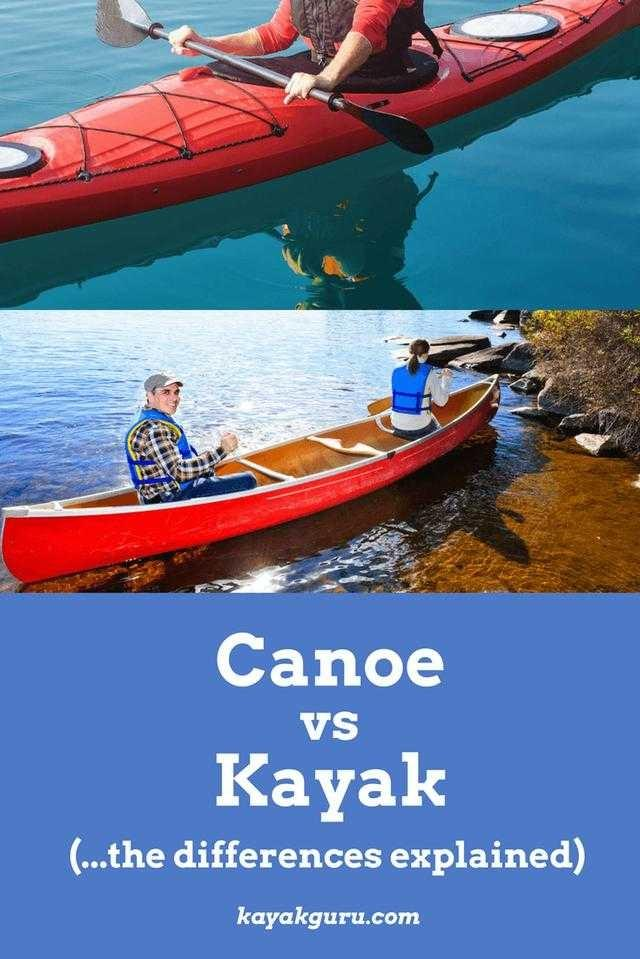kayak: (0, 0, 636, 246), (0, 371, 500, 584)
